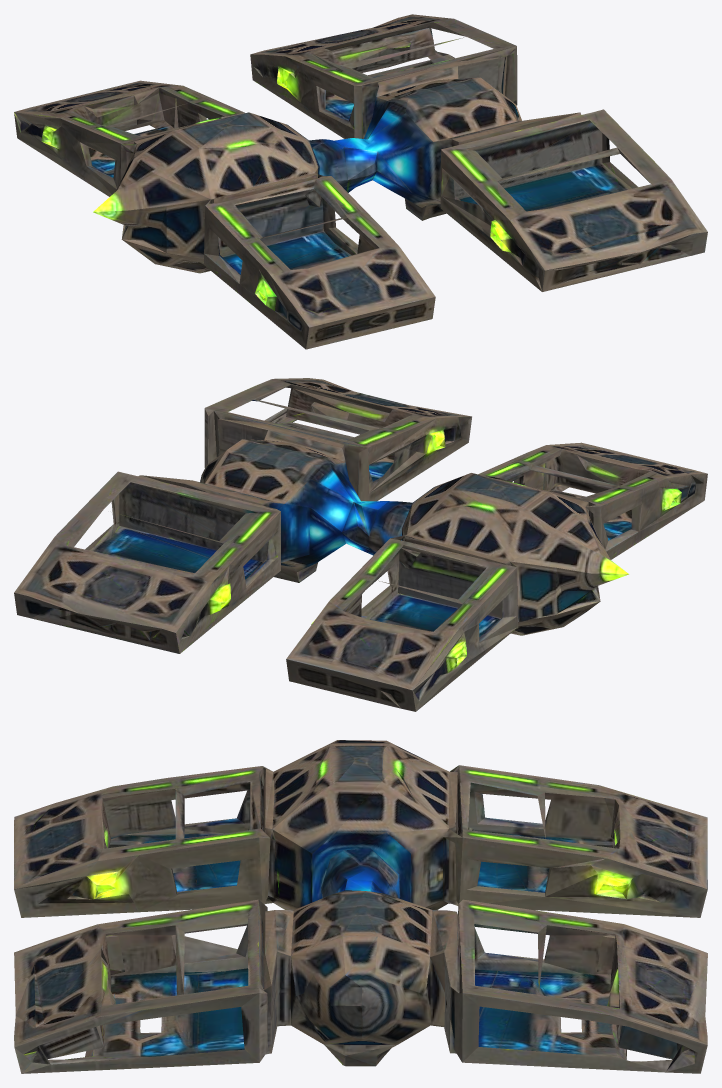
The model's file is nation-k-scout.glb.
3 renders of one model, top to bottom at view 1: azimuth 30°, elevation 25°; view 2: azimuth 150°, elevation 25°; view 3: azimuth 270°, elevation 25°, orthographic. The views are drawn at different scales.
Size of the model in its own units: 1.74 by 0.488 by 1.9.
Materials: 1 (1 with a texture image).
